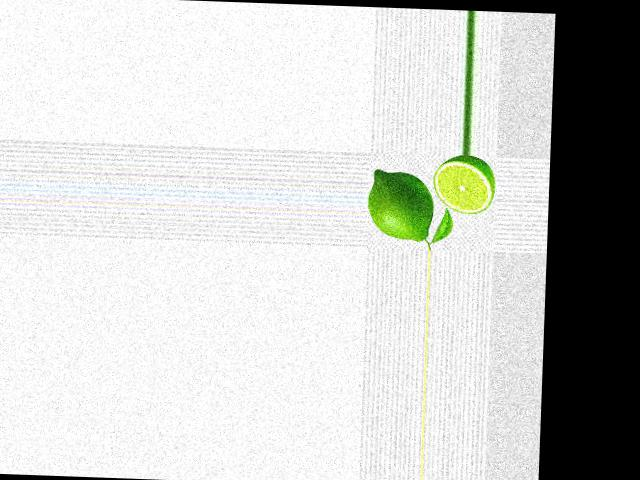lemon: (367, 166, 445, 243)
